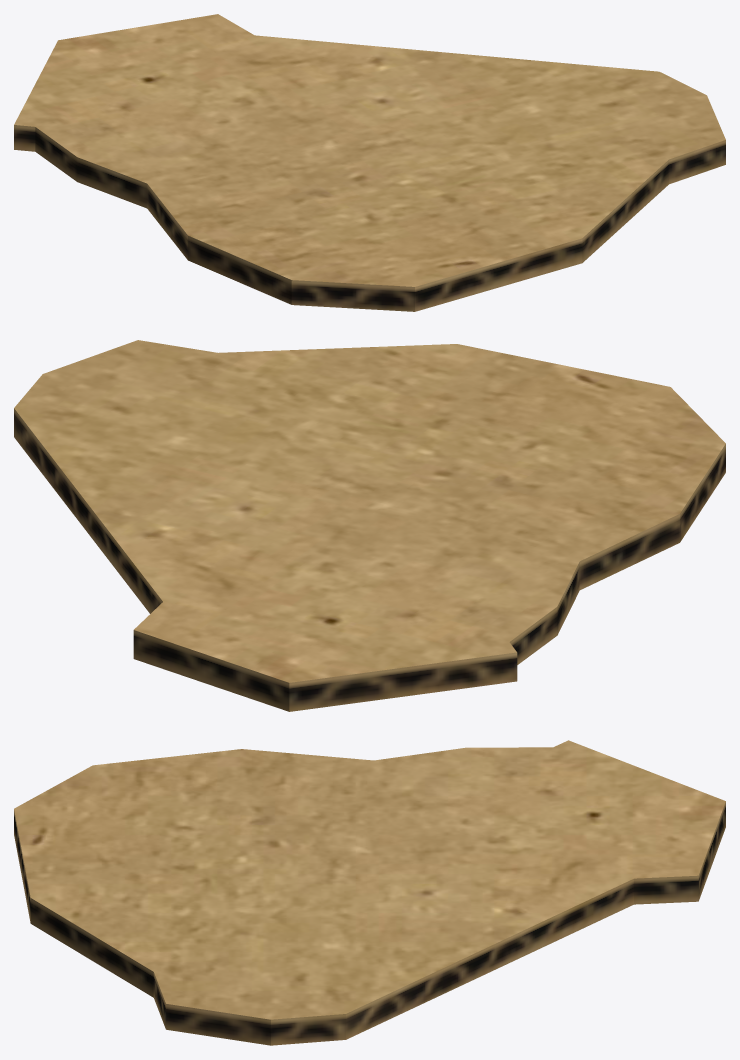
File: SM_CardboardBadBird.fbx
3 views of the same model, one above another, from view 1: azimuth 30°, elevation 25°; view 2: azimuth 150°, elevation 25°; view 3: azimuth 270°, elevation 25° (orthographic). The views are drawn at different scales.
Visible parts, largest first — view 1: Mesh_CardboardBadBurd; view 2: Mesh_CardboardBadBurd; view 3: Mesh_CardboardBadBurd.
Part boxes in pixels (x1,y1,x2,y2): Mesh_CardboardBadBurd: [14, 14, 725, 311]; Mesh_CardboardBadBurd: [14, 340, 725, 711]; Mesh_CardboardBadBurd: [14, 740, 725, 1045].
Size of the model in its own units: 56.41 by 2.44 by 60.75.
